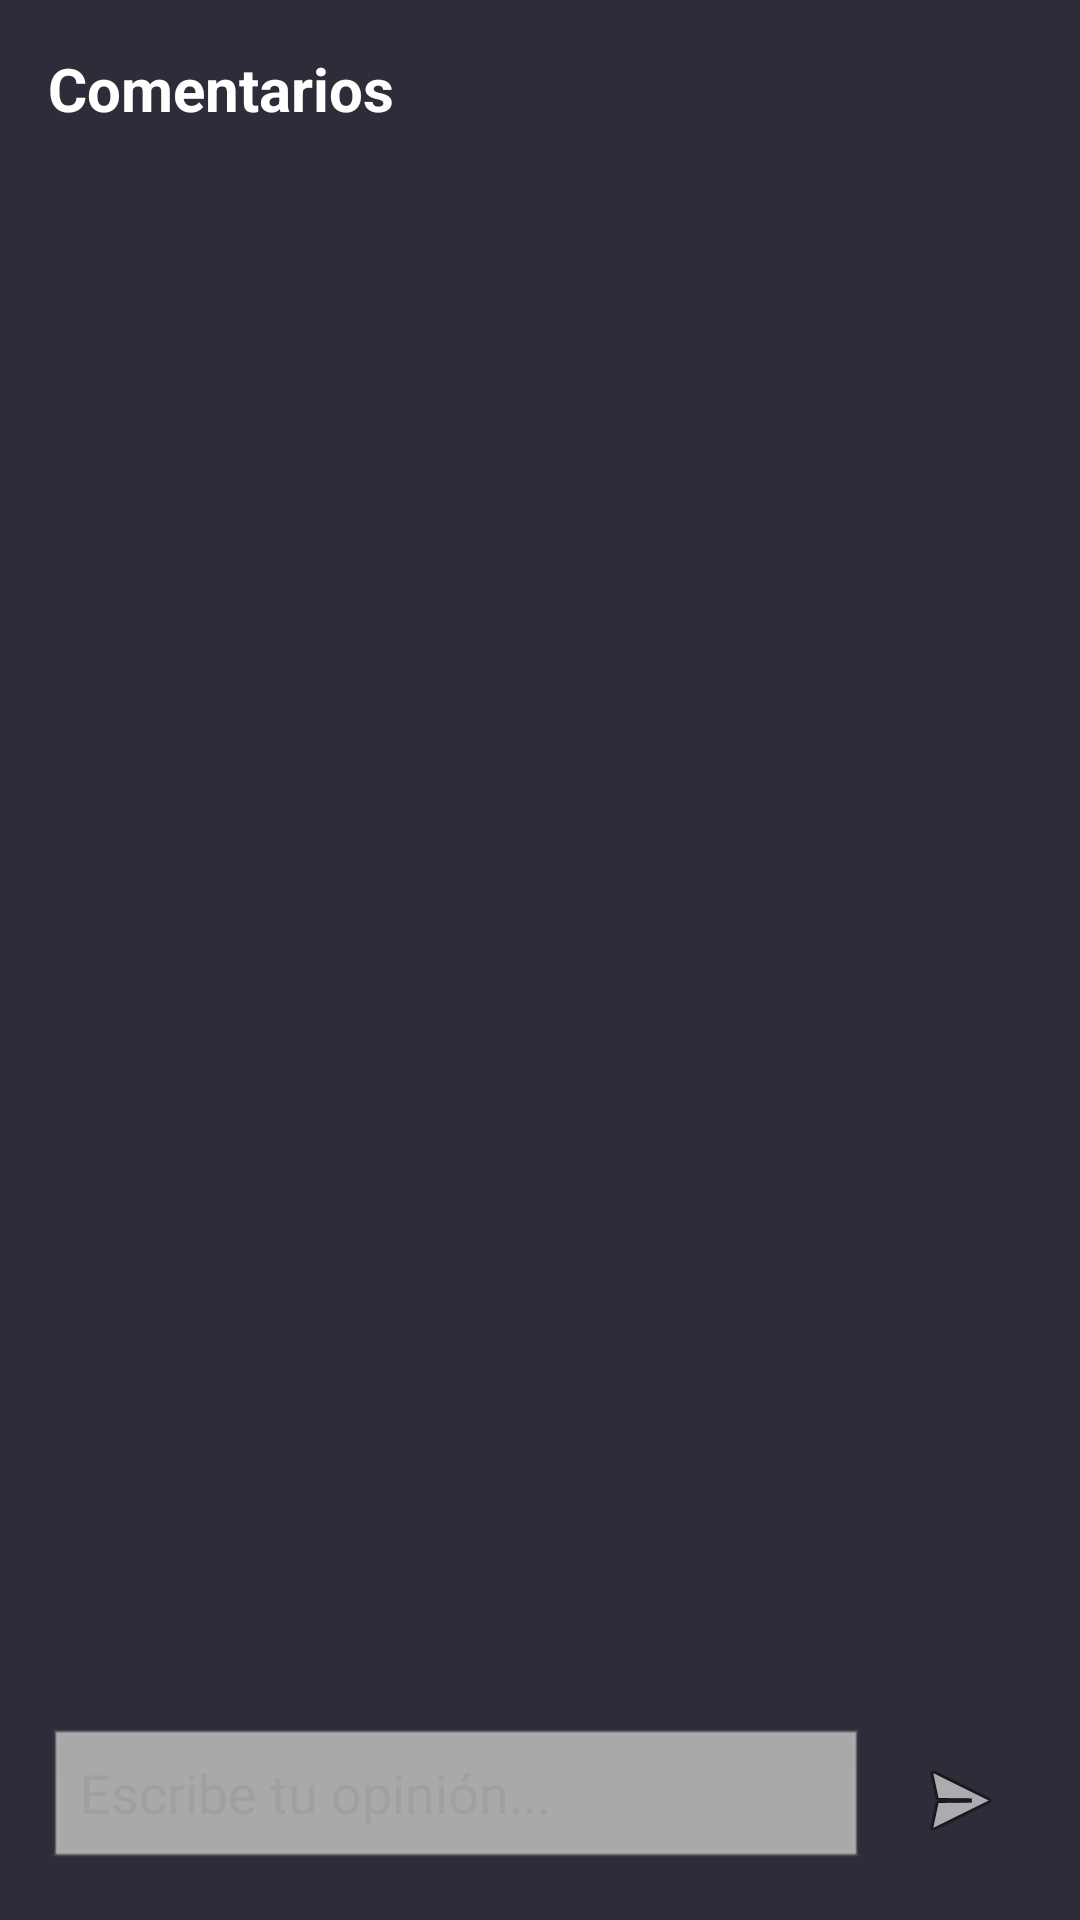

Screen size 1080*1920. Icon name, then its box in pixels as (x1=x1, y1=y1, x2=x2, y2=y2):
send: (x1=932, y1=1772, x2=990, y2=1829)
